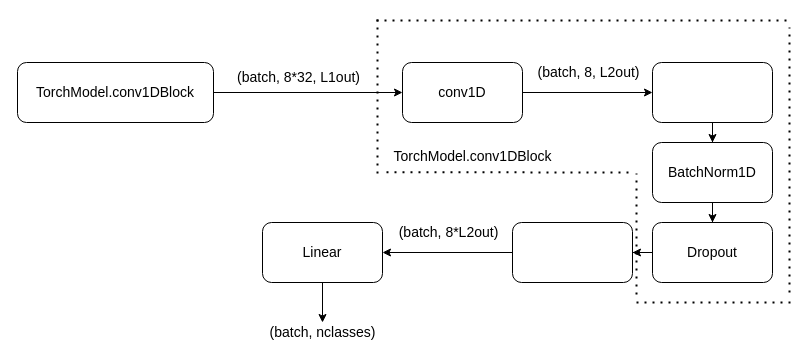
Some shapes in this 810 by 359 pixel diagram are drawn without their labels. Each missing label, with the centre of its shape:
"Flatten" belongs at pixel 572 252.
"LeakyReLU" belongs at pixel 712 92.
